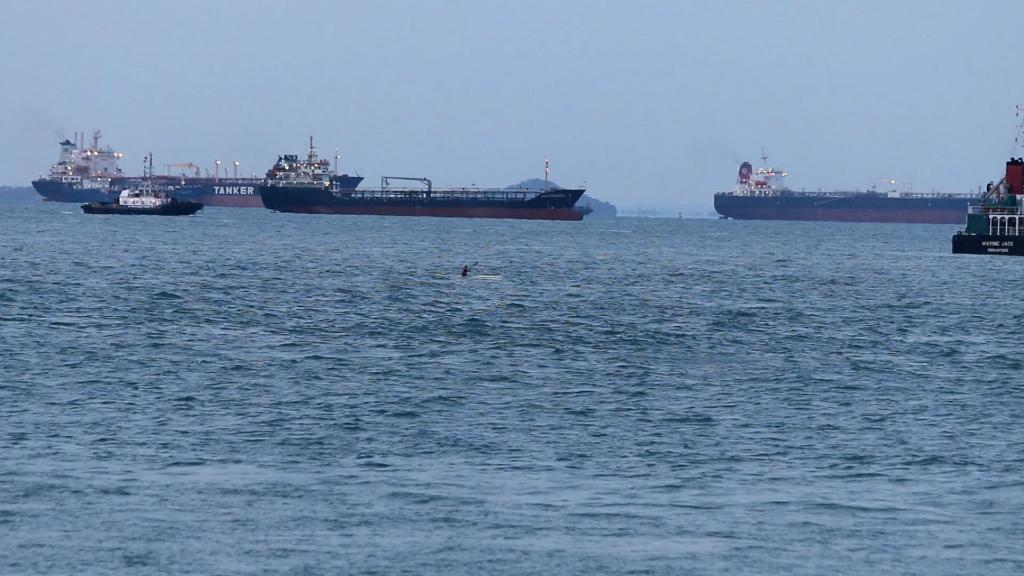PassengerShip: (952, 104, 1024, 258)
